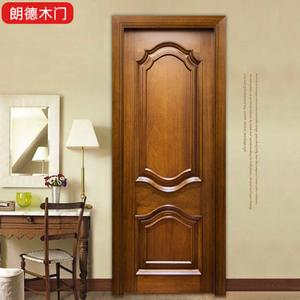door: (114, 16, 227, 295)
